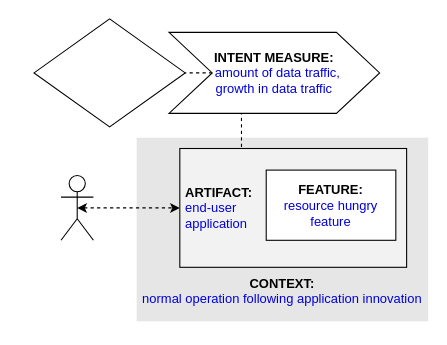
Image size: 447x345. Some labels were removed from this diagram. The shapes that lost their labels are listed below. From the top down, each one's centre as x and y in pixels, then its label:
At (x=109, y=72): "TACTIC INTENT: enabling more data-intensive udage".
At (x=76, y=207): "PARTICIPANT: end-user, edge-user, edge-provider, 5G-network-provider".
